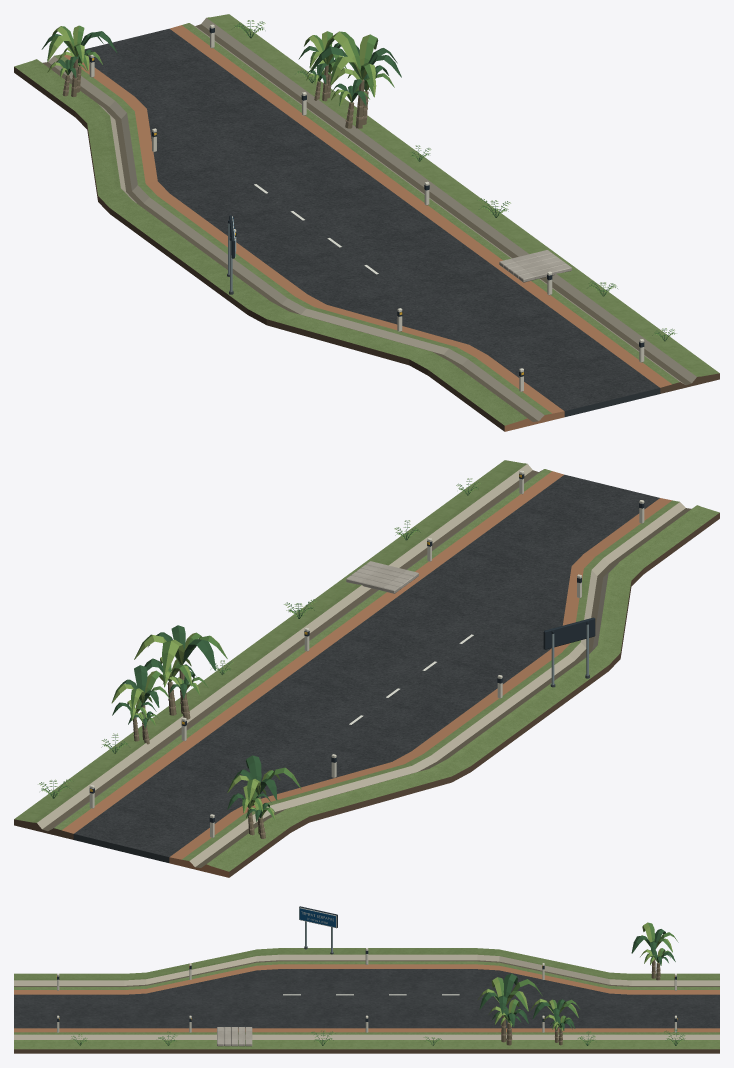
3 renders of one model, top to bottom at view 1: azimuth 30°, elevation 25°; view 2: azimuth 150°, elevation 25°; view 3: azimuth 270°, elevation 25°, orthographic. The views are drawn at different scales.
Visible parts, largest first — view 1: Road Deck, Grassed monsoon shoulders, Banana clump, Drain crossing slabs, Edge delineators, Ditch ferns; view 2: Road Deck, Grassed monsoon shoulders, Banana clump, Drain crossing slabs, Wayfinding plaque, Edge delineators, Ditch ferns; view 3: Grassed monsoon shoulders, Road Deck, Banana clump, Drain crossing slabs, Wayfinding plaque, Ditch ferns, Edge delineators.
Part boxes in pixels (<box>): Road Deck: <box>84,28,660,416</box>; Grassed monsoon shoulders: <box>14,14,719,431</box>; Banana clump: <box>41,25,401,128</box>; Drain crossing slabs: <box>499,250,571,282</box>; Edge delineators: <box>89,24,644,391</box>; Ditch ferns: <box>233,20,676,341</box>; Road Deck: <box>73,474,659,862</box>; Grassed monsoon shoulders: <box>14,460,719,877</box>; Banana clump: <box>111,625,301,838</box>; Drain crossing slabs: <box>346,561,418,593</box>; Wayfinding plaque: <box>543,617,595,687</box>; Edge delineators: <box>89,470,644,837</box>; Ditch ferns: <box>38,478,480,798</box>; Grassed monsoon shoulders: <box>14,948,719,1053</box>; Road Deck: <box>14,969,719,1028</box>; Banana clump: <box>477,922,678,1045</box>; Drain crossing slabs: <box>217,1027,252,1046</box>; Wayfinding plaque: <box>299,906,337,954</box>; Ditch ferns: <box>71,1029,685,1045</box>; Edge delineators: <box>56,948,677,1032</box>.
Size of the model in its own units: 11.54 by 3.32 by 32.
Materials: 21 (3 with a texture image).
